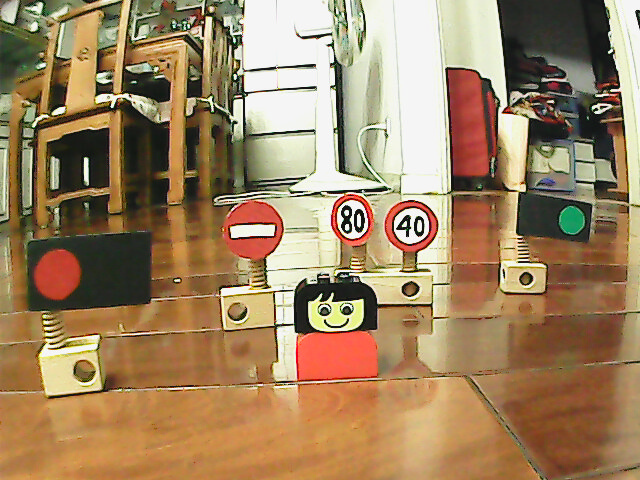Green Traffic Light: (554, 201, 588, 238)
Person: (288, 270, 382, 380)
Red Traffic Light: (26, 240, 89, 308)
Speed Limit 40: (381, 198, 440, 254)
Speed Limit 80: (328, 192, 376, 246)
Stop Sign: (221, 197, 287, 260)
